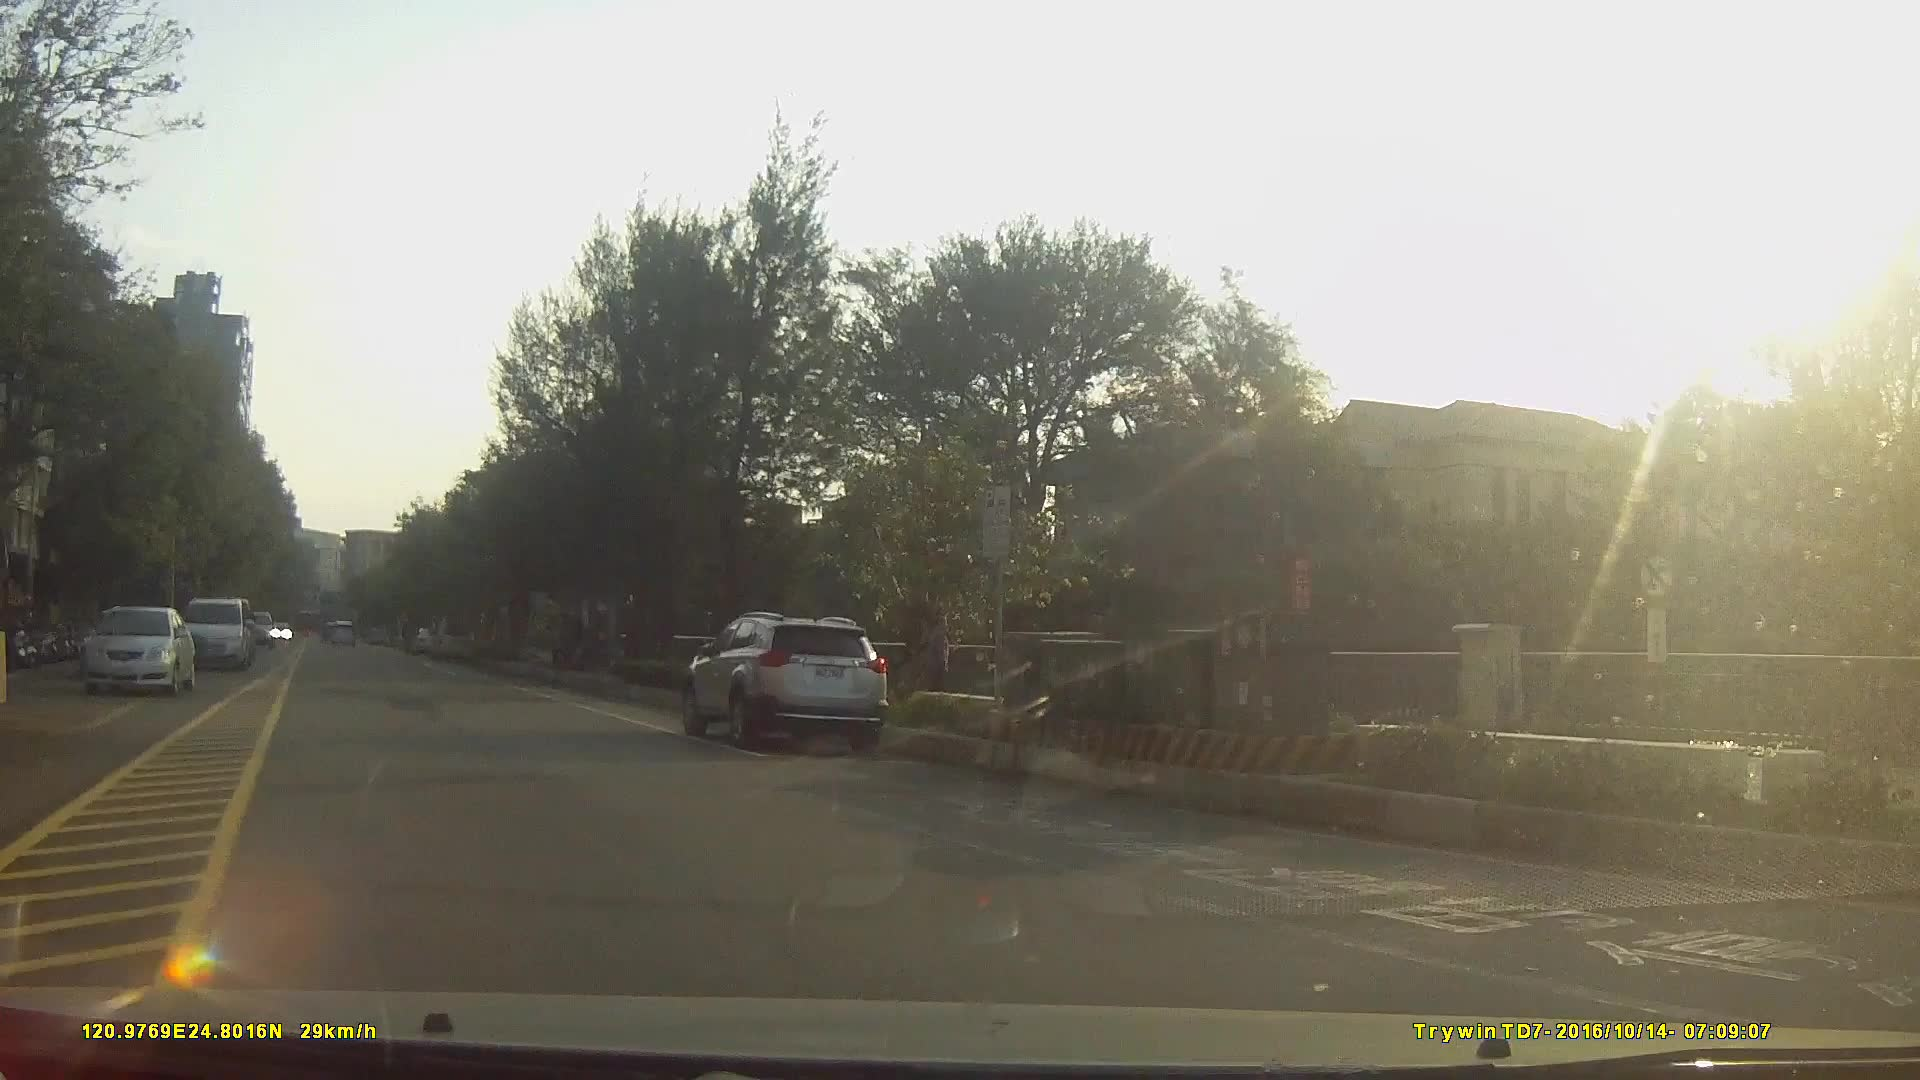vehicle: (684, 611, 889, 754), (80, 604, 196, 694), (185, 597, 252, 670), (426, 615, 477, 662), (236, 608, 276, 649)
